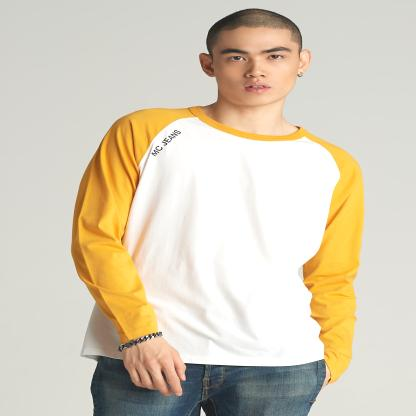dress: (67, 105, 381, 375)
